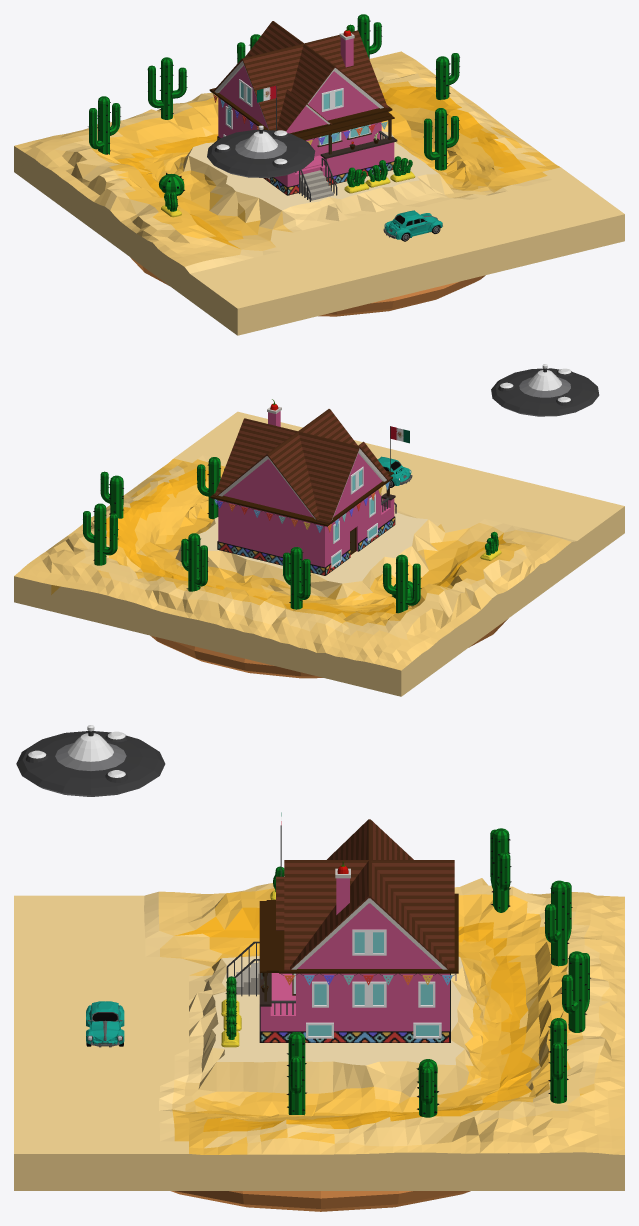
The picture shows the model from 3 angles, top to bottom: view 1: azimuth 30°, elevation 25°; view 2: azimuth 150°, elevation 25°; view 3: azimuth 270°, elevation 25°; orthographic projection. The views are drawn at different scales.
Visible parts, largest first — view 1: Cube.001, Cube.1005, OBJRANDOM_UFO, UNDERGROUND_PIZZA, Cylinder.044, Cylinder.037, Cylinder.045, VEHICLES_VOLKSWAGEN, Cylinder.038, Cylinder.042, Cylinder.039, Cylinder.041; view 2: Cube.001, Cube.1005, OBJRANDOM_UFO, UNDERGROUND_PIZZA, Cylinder.042, Cylinder.045, Cylinder.044, Cylinder.043, Cylinder.037, Cylinder.038, VEHICLES_VOLKSWAGEN; view 3: Cube.001, Cube.1005, OBJRANDOM_UFO, UNDERGROUND_PIZZA, Cylinder.043, Cylinder.044, VEHICLES_VOLKSWAGEN, Cylinder.045, Cylinder.037, Cylinder.042, Cylinder.038.
Part boxes in pixels (x1,y1,x2,y2): Cube.001: [14, 51, 624, 335]; Cube.1005: [209, 21, 397, 201]; OBJRANDOM_UFO: [207, 125, 315, 177]; UNDERGROUND_PIZZA: [130, 257, 485, 316]; Cylinder.044: [147, 57, 187, 119]; Cylinder.037: [423, 108, 459, 170]; Cylinder.045: [88, 96, 120, 154]; VEHICLES_VOLKSWAGEN: [383, 210, 442, 241]; Cylinder.038: [435, 53, 459, 99]; Cylinder.042: [346, 14, 382, 59]; Cylinder.039: [344, 167, 369, 193]; Cylinder.041: [390, 156, 415, 182]; Cube.001: [14, 411, 624, 696]; Cube.1005: [210, 399, 409, 575]; OBJRANDOM_UFO: [491, 364, 599, 416]; UNDERGROUND_PIZZA: [150, 618, 508, 678]; Cylinder.042: [83, 503, 118, 565]; Cylinder.045: [383, 554, 421, 613]; Cylinder.044: [283, 547, 310, 609]; Cylinder.043: [181, 533, 208, 591]; Cylinder.037: [197, 457, 224, 519]; Cylinder.038: [100, 471, 123, 518]; VEHICLES_VOLKSWAGEN: [377, 456, 412, 487]; Cube.001: [14, 878, 624, 1190]; Cube.1005: [226, 812, 458, 1042]; OBJRANDOM_UFO: [16, 725, 165, 796]; UNDERGROUND_PIZZA: [171, 1191, 470, 1211]; Cylinder.043: [561, 951, 590, 1032]; Cylinder.044: [544, 880, 572, 966]; VEHICLES_VOLKSWAGEN: [86, 1001, 124, 1047]; Cylinder.045: [490, 828, 511, 912]; Cylinder.037: [286, 1032, 306, 1115]; Cylinder.042: [548, 1018, 568, 1103]; Cylinder.038: [416, 1059, 439, 1117].
Size of the model in its own units: 4002 by 2035 by 4001.
66 materials, 4 textured.
